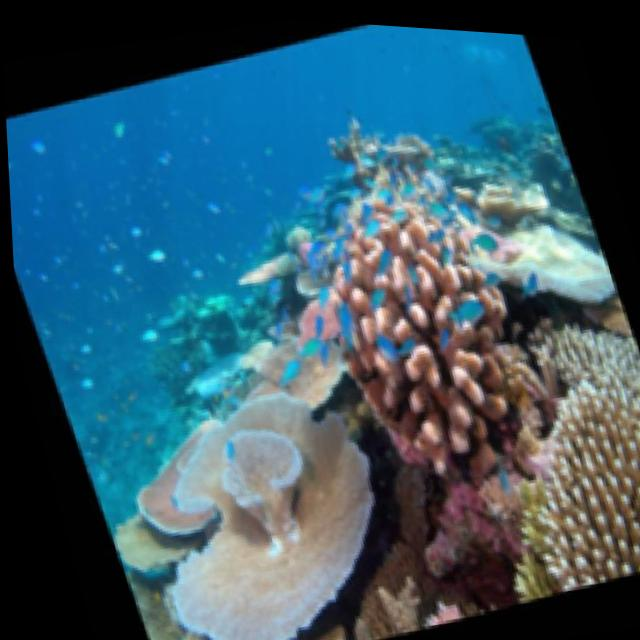Healthy Coral: (81, 351, 426, 640), (294, 113, 563, 471), (485, 338, 640, 576)
